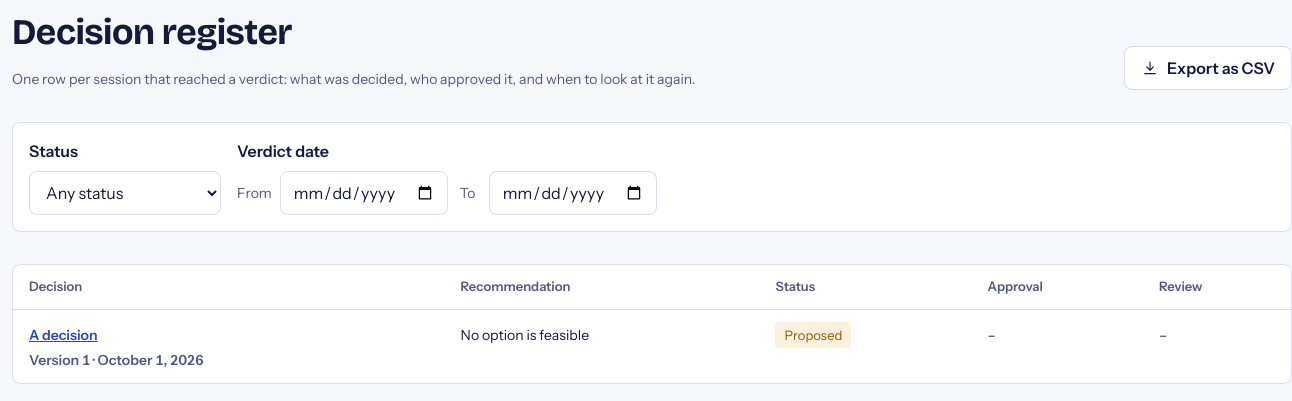
Test: the decision register › filters on a period of verdicts, exports what is filtered, and resets the filters in one click
Expected: the link "A decision" is shown, [29,326,98,344]
Expected: the button "Clear the filters" is not shown
Type "2026-09-01" into the date field labelled "From". click: (364, 193)
box: [280,171,448,215]
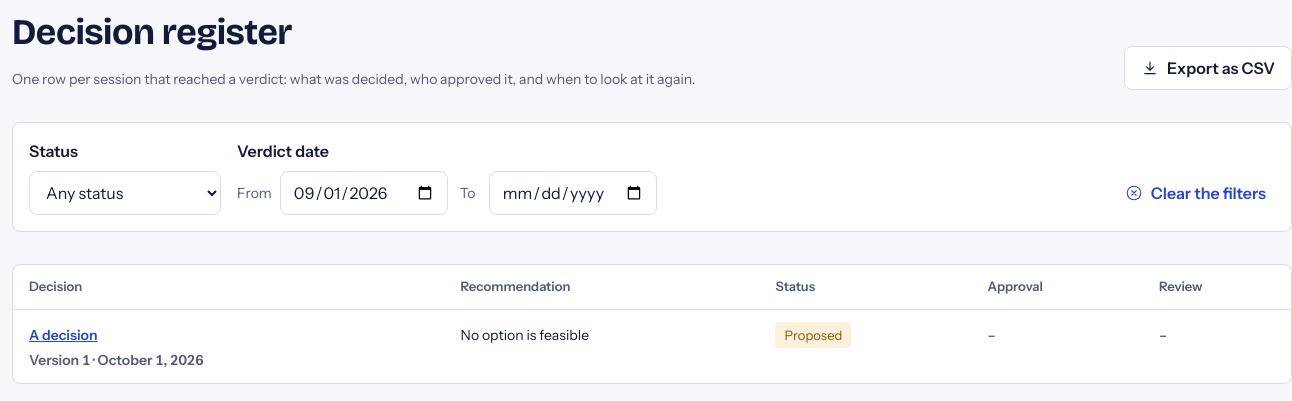
Type "2026-09-30" into the date field labelled "To". click: (573, 193)
box: [489,171,657,215]
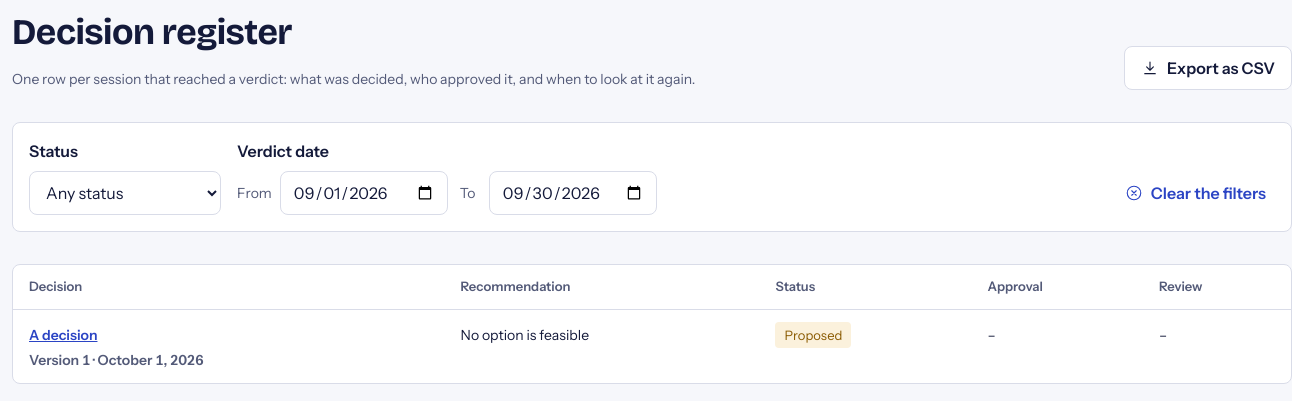
Expected: the date field labelled "To" has attribute min="2026-09-01", [489,171,657,215]
Click the button "Clear the filters". click: (1195, 193)
box: [1116,171,1275,215]
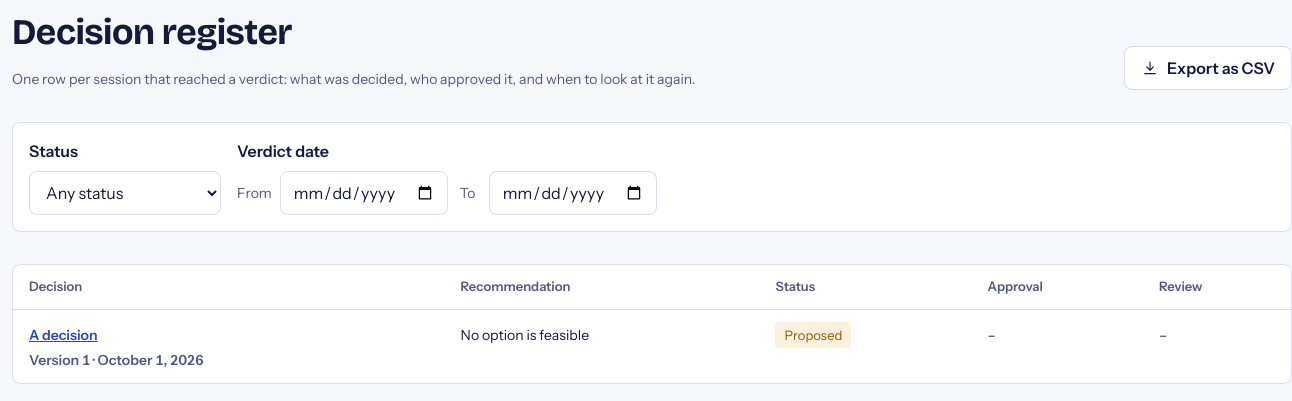
Expected: the date field labelled "From" is empty, [280,171,448,215]
Expected: the button "Clear the filters" is gone
